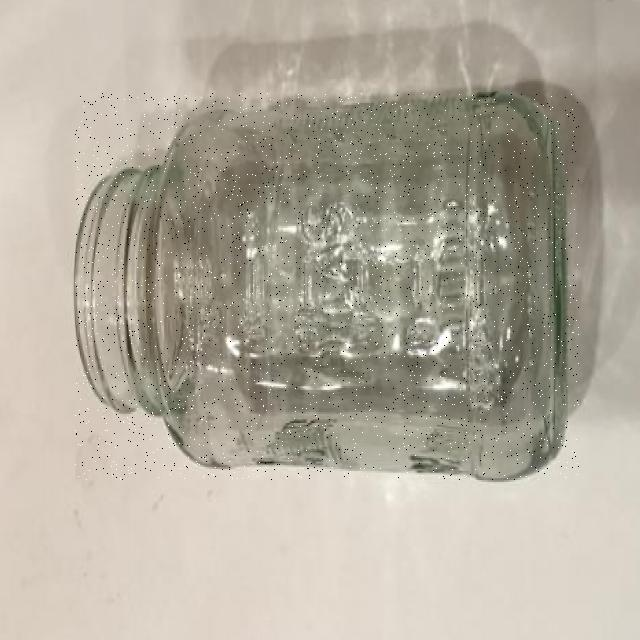glass: (75, 93, 579, 480)
